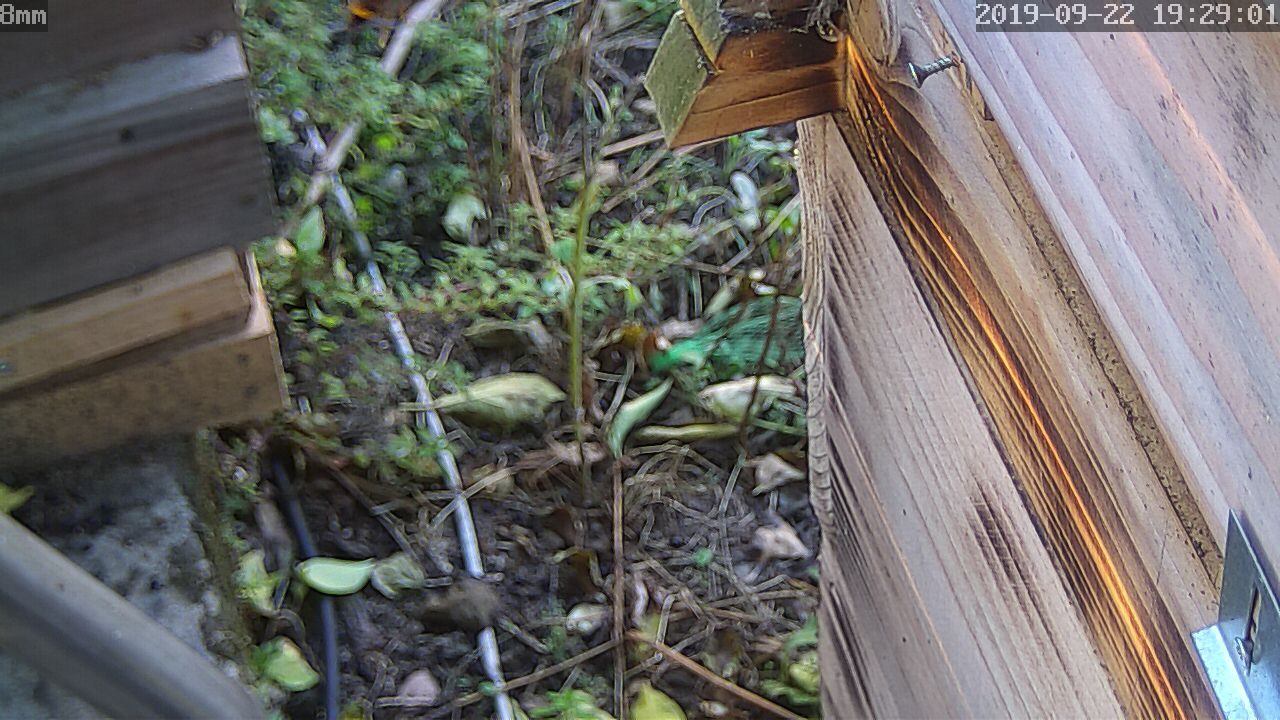hornet: (334, 1, 392, 36)
